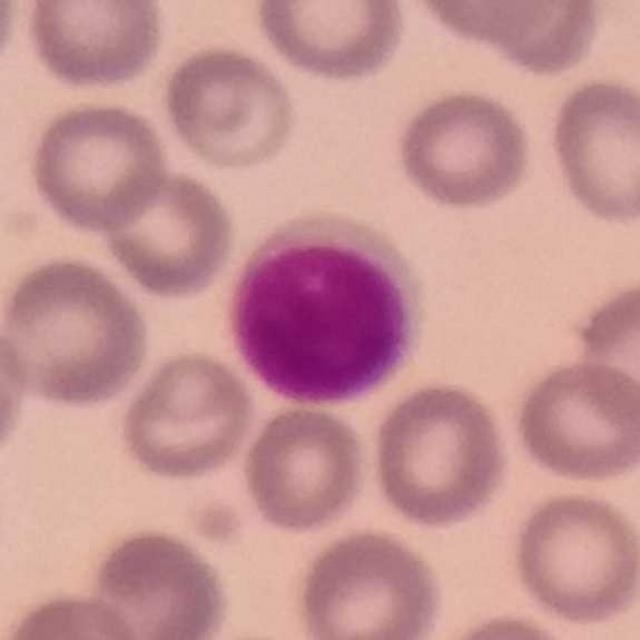Lymphocyte: (222, 208, 425, 410)
RBC: (0, 251, 154, 412), (366, 376, 516, 532), (24, 96, 172, 235), (94, 162, 240, 302), (116, 346, 258, 484), (506, 486, 640, 629), (158, 41, 302, 173), (392, 84, 538, 212), (237, 401, 373, 536), (290, 524, 448, 640), (83, 523, 234, 639), (507, 356, 639, 486), (543, 74, 640, 230), (20, 0, 169, 95), (250, 0, 411, 86), (565, 274, 640, 434), (468, 0, 606, 79), (402, 0, 579, 47), (2, 587, 146, 640), (0, 317, 33, 473), (428, 609, 582, 640), (0, 0, 24, 82)
